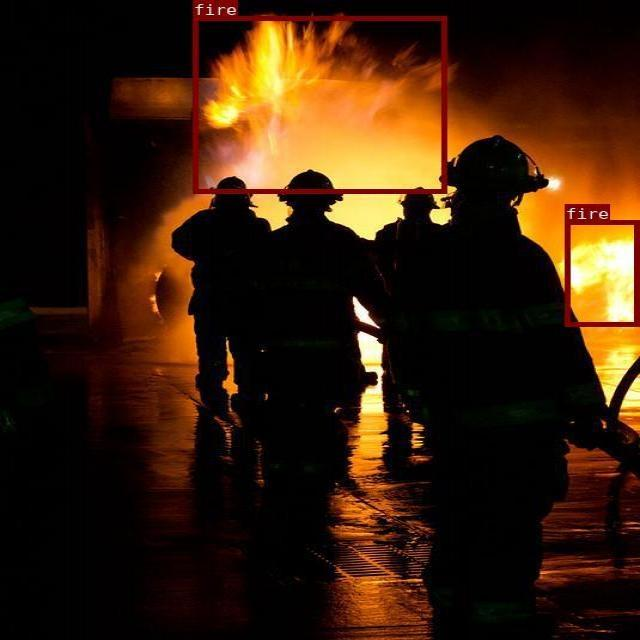fire: (192, 15, 445, 193), (564, 219, 638, 325)
